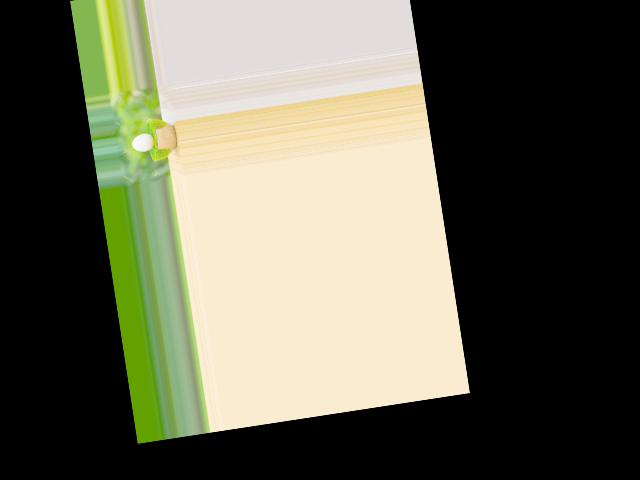egg: (131, 131, 155, 152)
